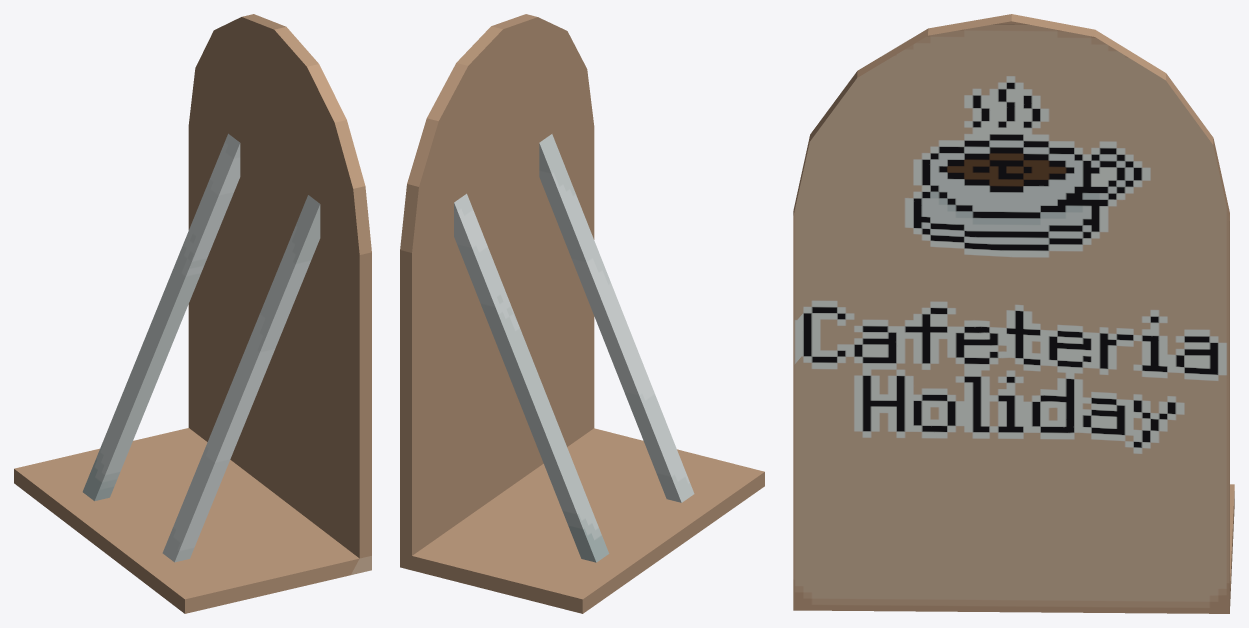
File: Papelão.fbx
3 renders of one model, left to right at view 1: azimuth 30°, elevation 25°; view 2: azimuth 150°, elevation 25°; view 3: azimuth 270°, elevation 25°, orthographic. The views are drawn at different scales.
Visible parts, largest first — view 1: Cube, Cube.001; view 2: Cube, Cube.001; view 3: Cube.
Boxes of the visible parts, x1,y1,x2,y2 form: Cube: (14,14,371,613); Cube.001: (82,133,320,562); Cube: (400,14,764,613); Cube.001: (454,134,694,562); Cube: (793,14,1234,613).
Bounding box in the file's own units: 292 × 700 × 474.
Materials: 2 (2 with a texture image).
